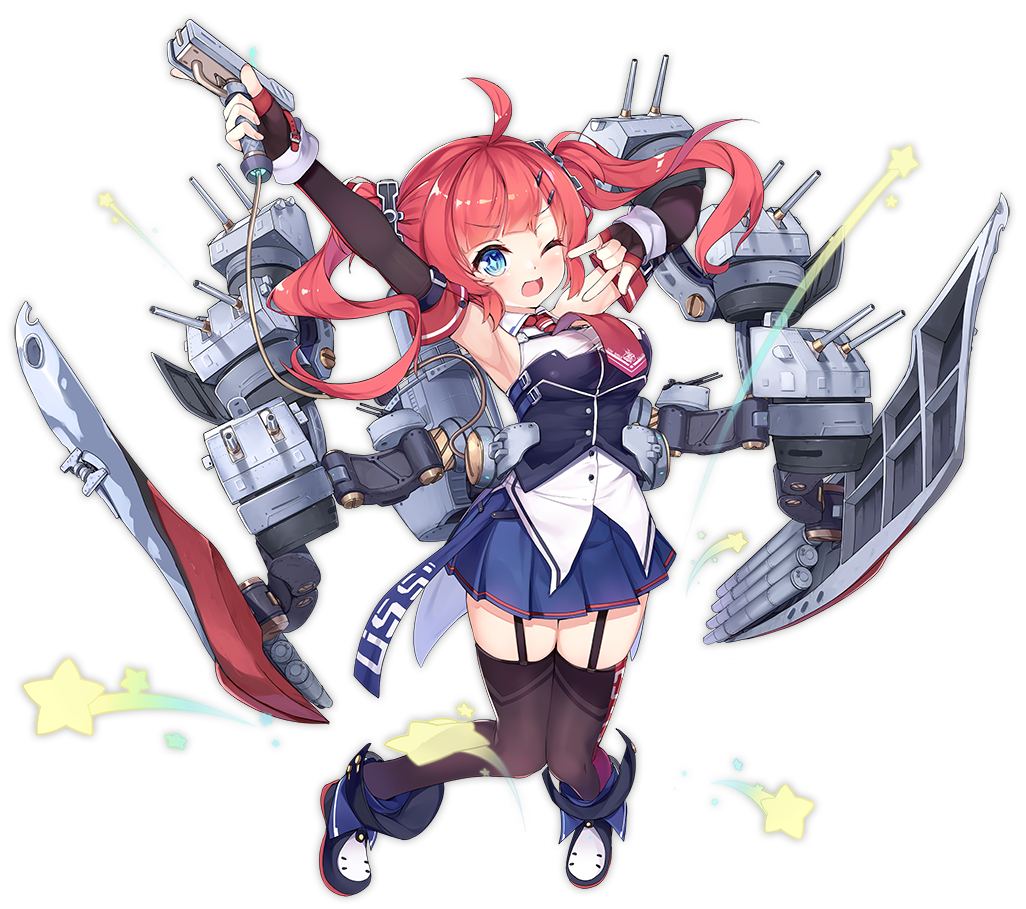person: (213, 110, 715, 909)
